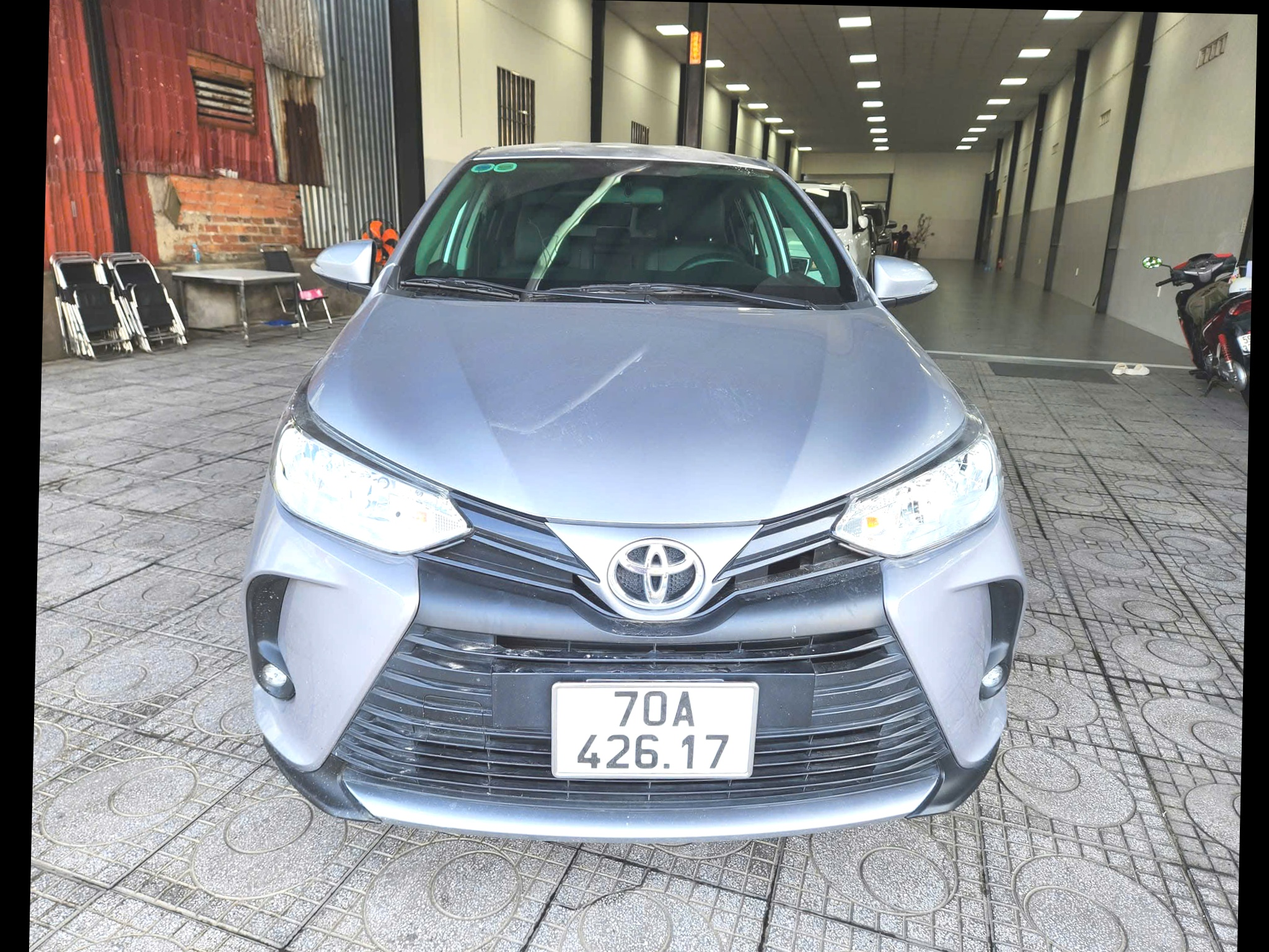Bien-so: (568, 644, 777, 749)
